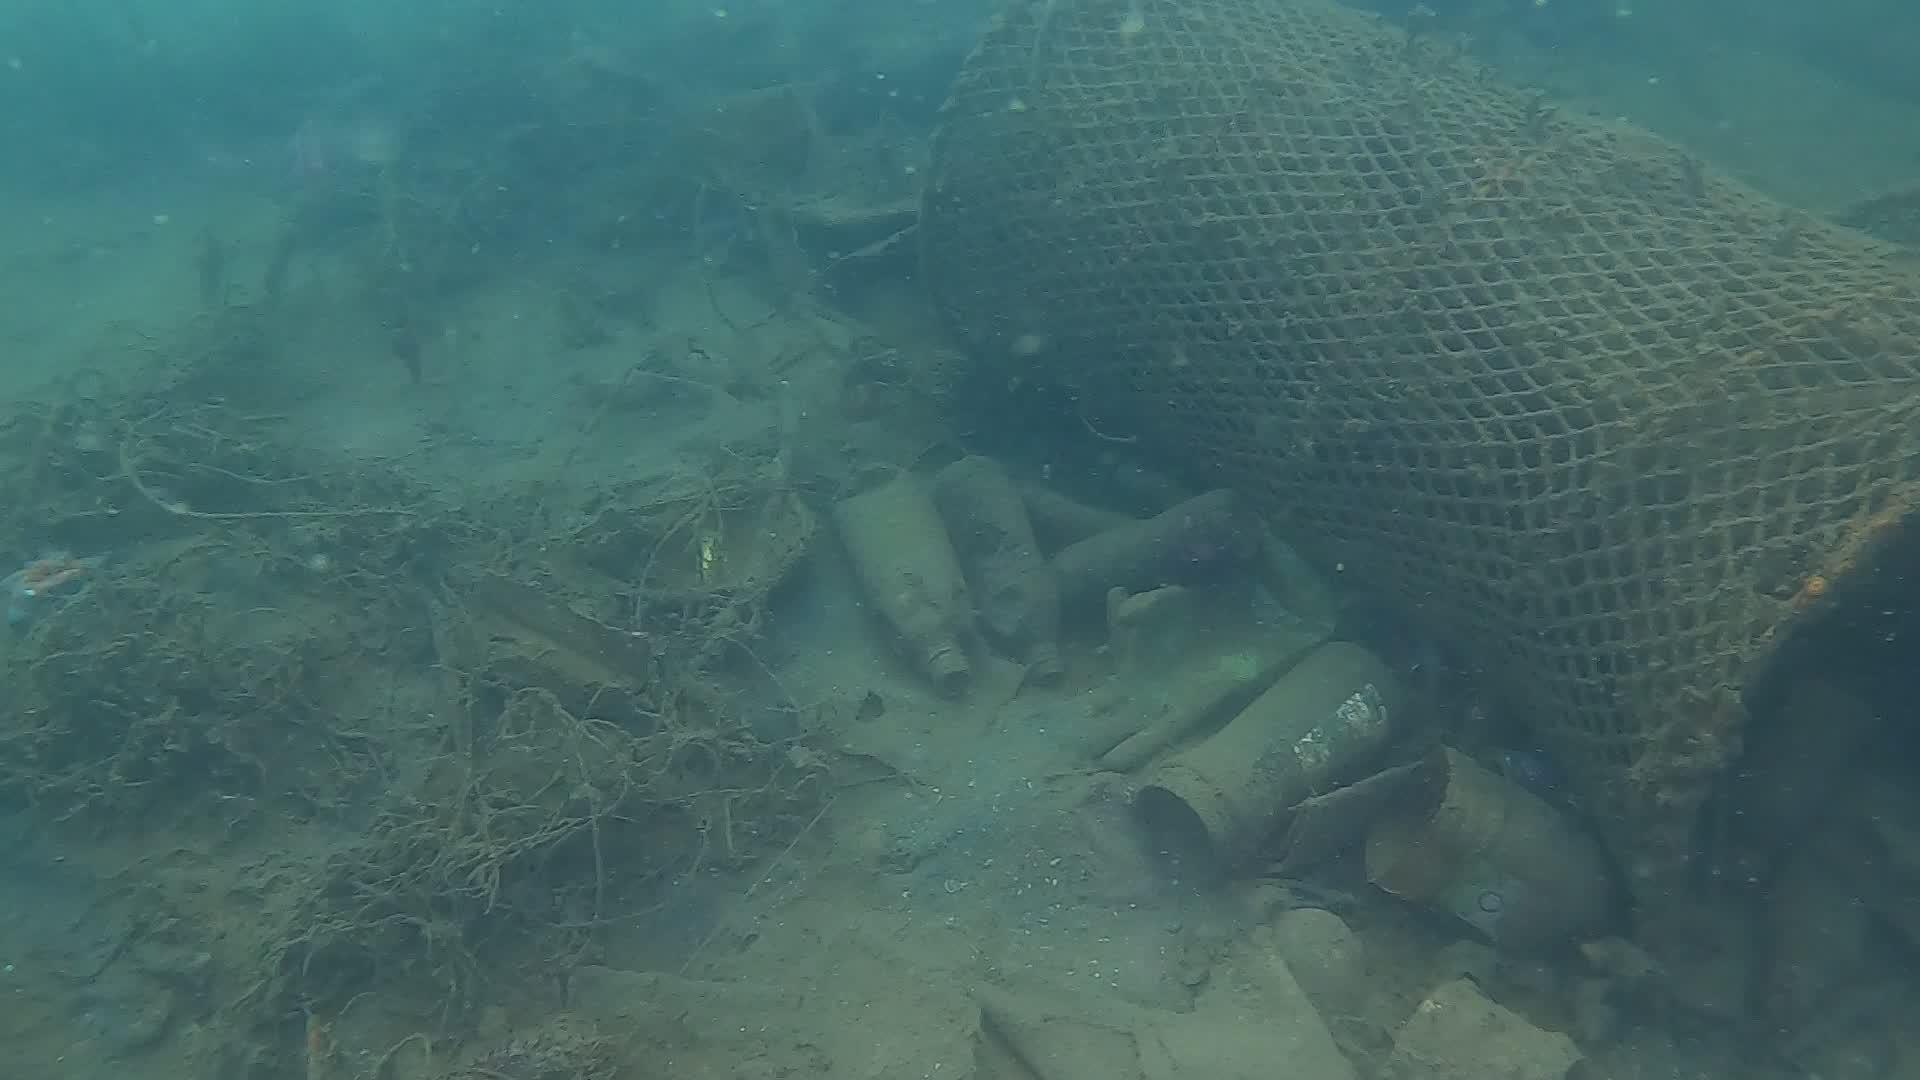spring fish trap: (916, 9, 1920, 923)
